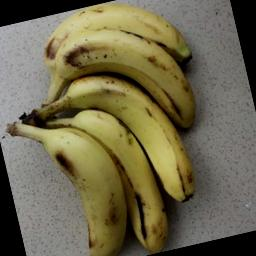Banana Ripe: (41, 39, 223, 256), (21, 0, 248, 171), (18, 111, 147, 256)
